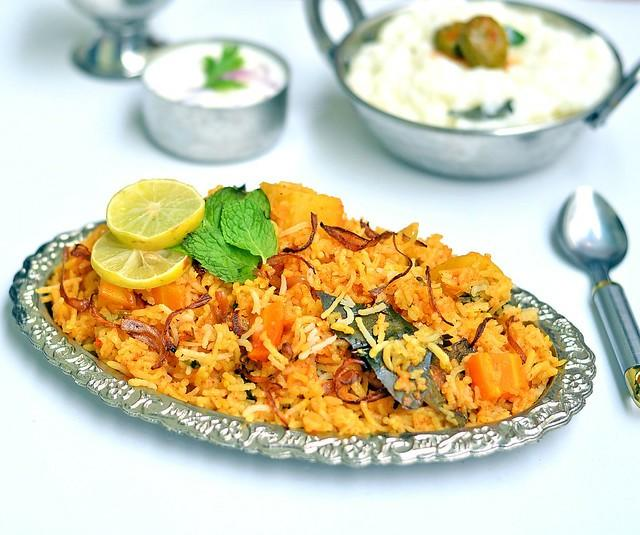Biryani: (37, 181, 566, 444)
